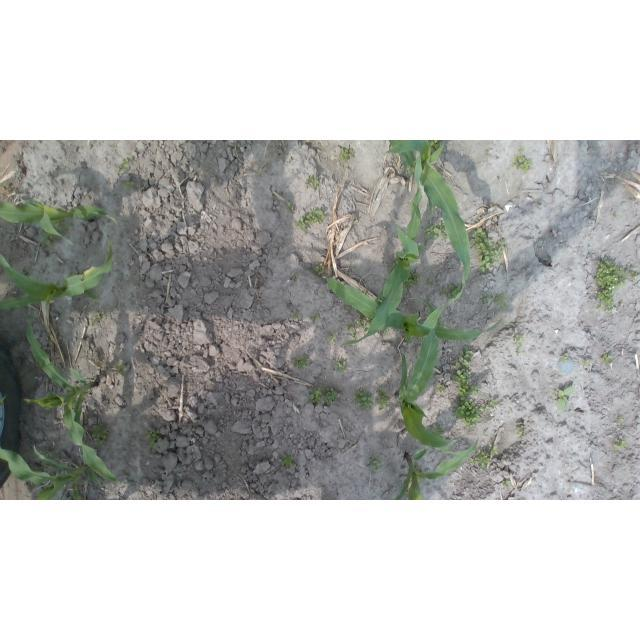Maize: (23, 318, 122, 484), (341, 152, 425, 346), (324, 274, 503, 342), (388, 141, 473, 283), (392, 326, 458, 450), (0, 250, 118, 312), (1, 198, 118, 248), (0, 444, 106, 499), (392, 435, 482, 499)
Weeds: (594, 254, 639, 317), (454, 345, 484, 429), (470, 225, 511, 273), (348, 314, 384, 337), (36, 219, 66, 239), (298, 209, 325, 230), (425, 221, 449, 242), (474, 446, 498, 466), (513, 149, 534, 171), (557, 385, 574, 410), (90, 423, 108, 446), (322, 387, 342, 407), (354, 388, 371, 409), (480, 292, 505, 306), (377, 390, 392, 411), (146, 429, 160, 451), (117, 155, 131, 176), (307, 388, 323, 406), (439, 284, 459, 297), (485, 394, 498, 414), (279, 453, 295, 469), (294, 354, 310, 370), (511, 335, 523, 355), (339, 148, 354, 162), (614, 437, 628, 452), (303, 176, 319, 188), (315, 263, 326, 279), (518, 424, 529, 440), (335, 360, 349, 371), (117, 365, 130, 376), (603, 350, 614, 363), (371, 459, 381, 472), (286, 200, 296, 212), (330, 333, 339, 344), (438, 383, 447, 394), (123, 181, 134, 188), (288, 313, 298, 320)
